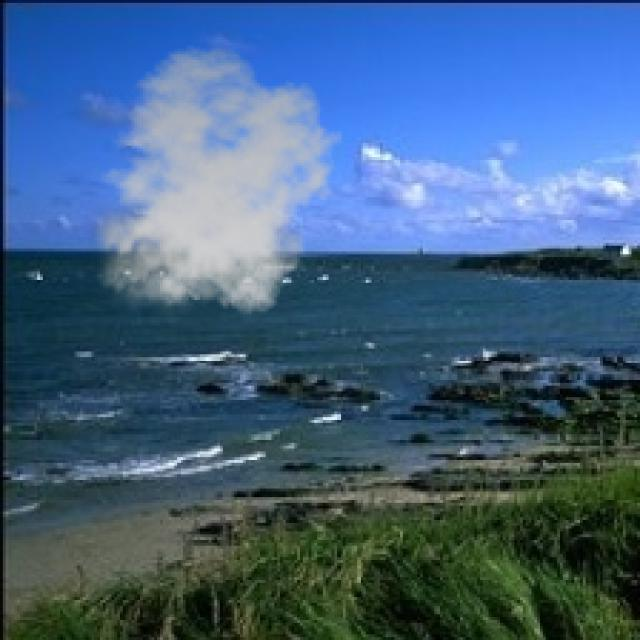Smoke: (83, 46, 343, 323)
